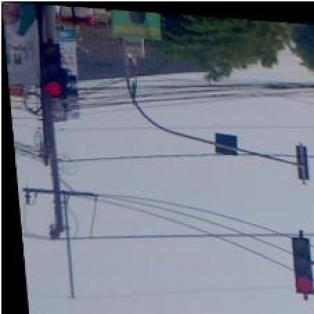Semaforo Rojo: (37, 40, 64, 98), (286, 232, 312, 290)
